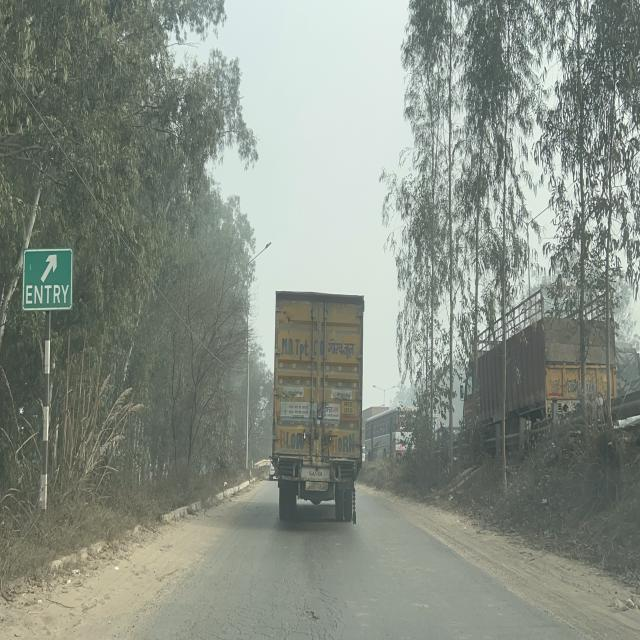GENERAL: (23, 250, 72, 312)
